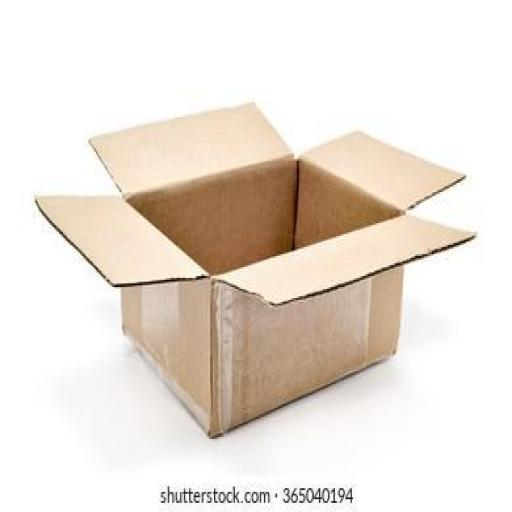cardboard: (34, 100, 476, 442)
